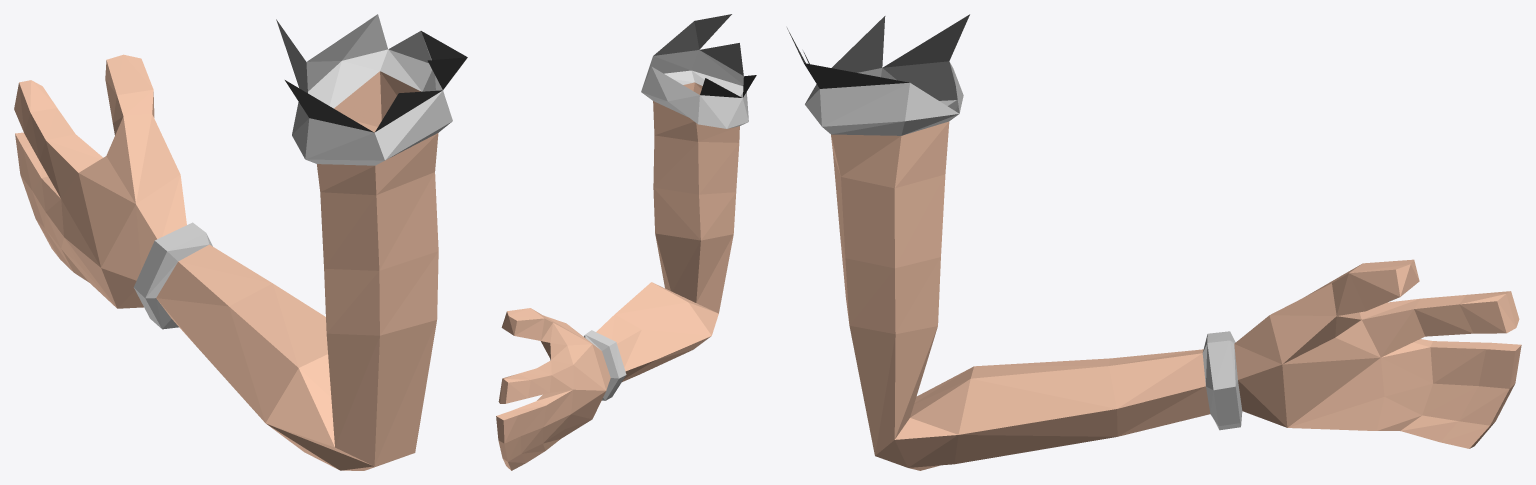
File: Mother_01_ArmL_96_04_A.obj
3 renders of one model, left to right at view 1: azimuth 30°, elevation 25°; view 2: azimuth 150°, elevation 25°; view 3: azimuth 270°, elevation 25°, orthographic. The views are drawn at different scales.
Visible parts, largest first — view 1: Mother_01_ArmL_96_04_A; view 2: Mother_01_ArmL_96_04_A; view 3: Mother_01_ArmL_96_04_A.
Boxes of the visible parts, x1=… form: Mother_01_ArmL_96_04_A: x1=14, y1=14, x2=467, y2=470; Mother_01_ArmL_96_04_A: x1=496, y1=14, x2=756, y2=470; Mother_01_ArmL_96_04_A: x1=787, y1=14, x2=1521, y2=470.
Size of the model in its own units: 0.1419 by 0.3921 by 0.5905.
1 material, 1 textured.
